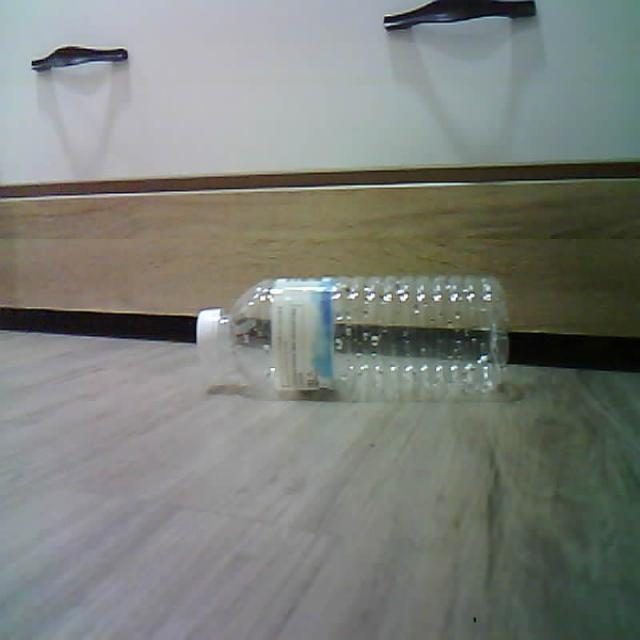bottle: (196, 274, 508, 402)
